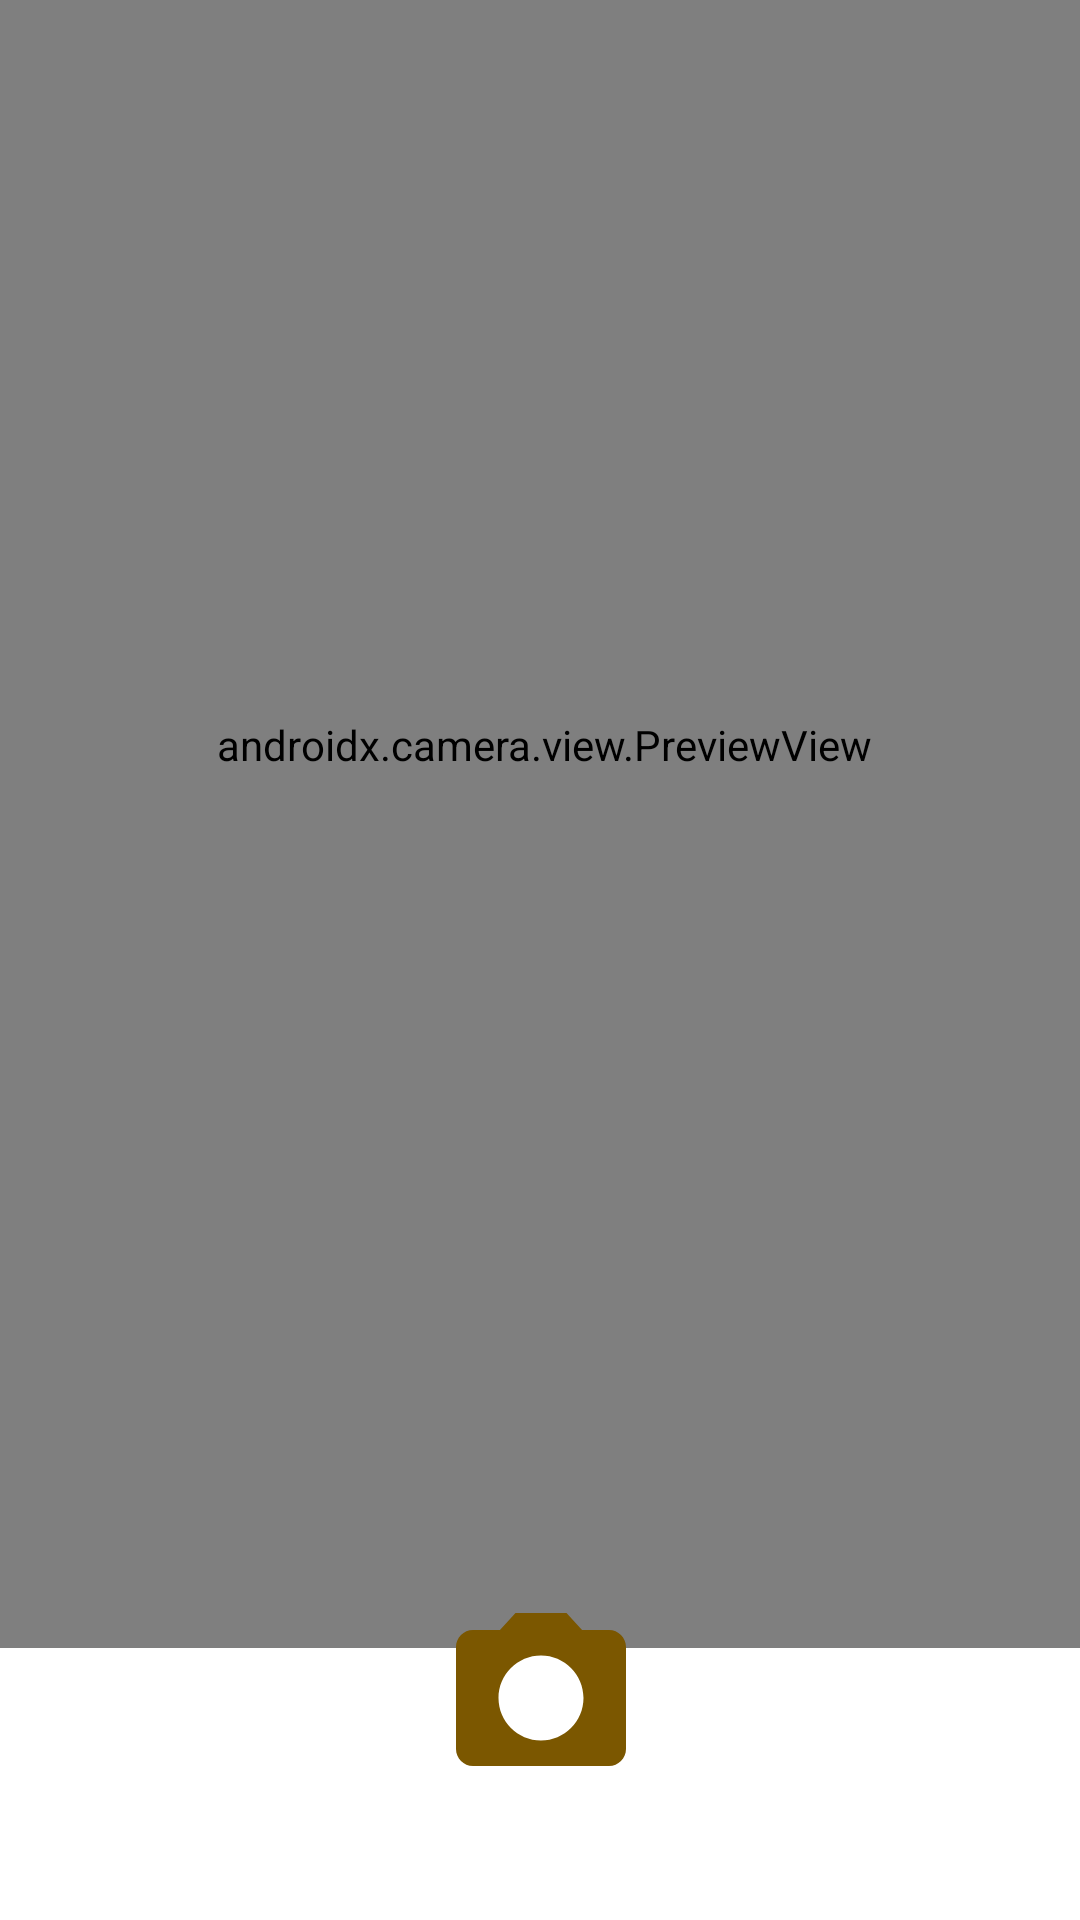

Where icons sit on this 1080px×1920px app screen, as rect(x1, y1, x2, y2):
Take picture icon: rect(428, 1596, 653, 1766)
